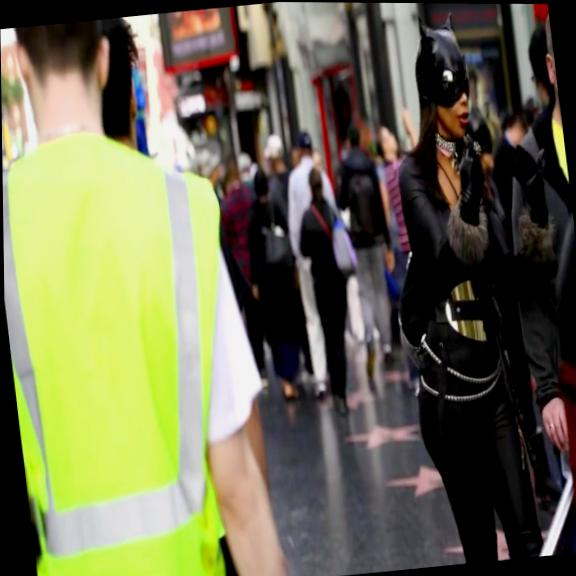safety_vest: (2, 109, 267, 576)
